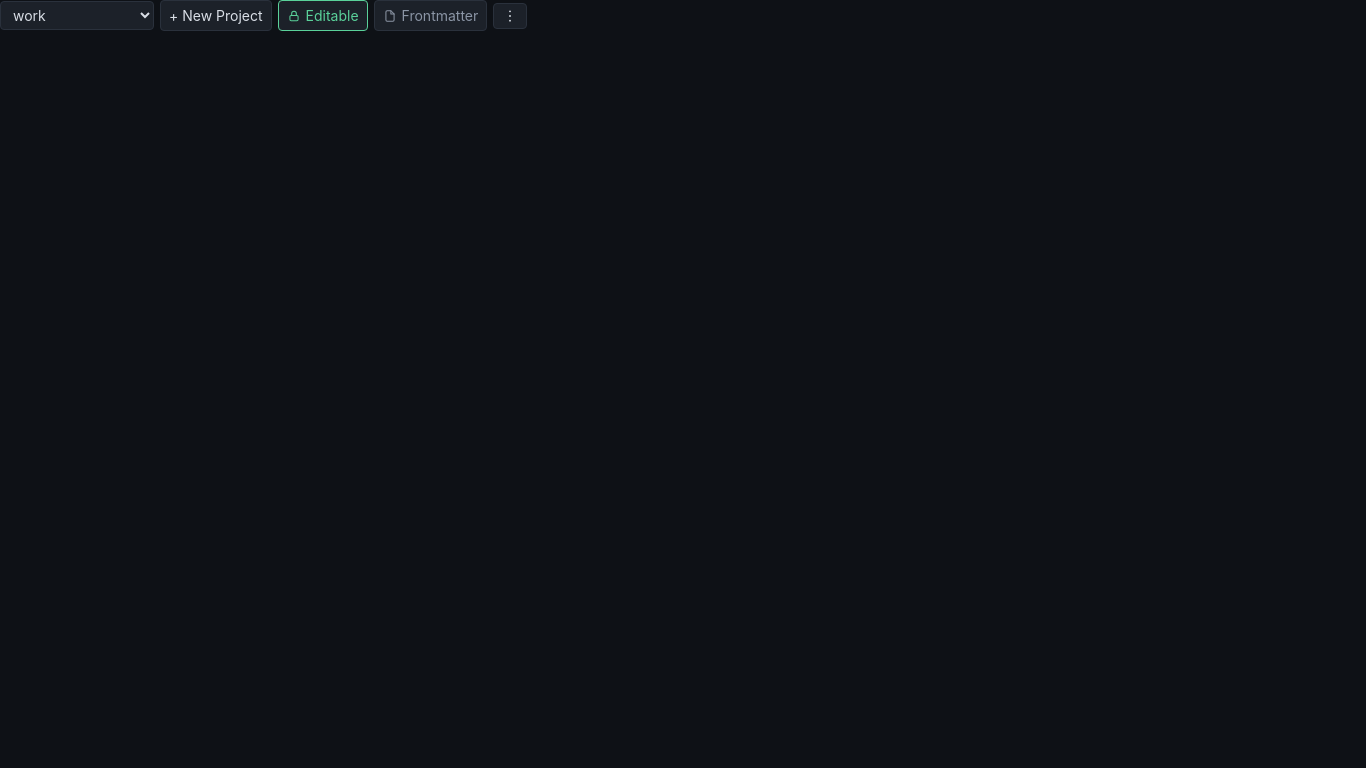
Test: ProjectSwitcher delete dialog › warns that everything in an ordinary project folder is removed
Click the button named "Project actions". click: (510, 16)
box: [493, 2, 527, 28]
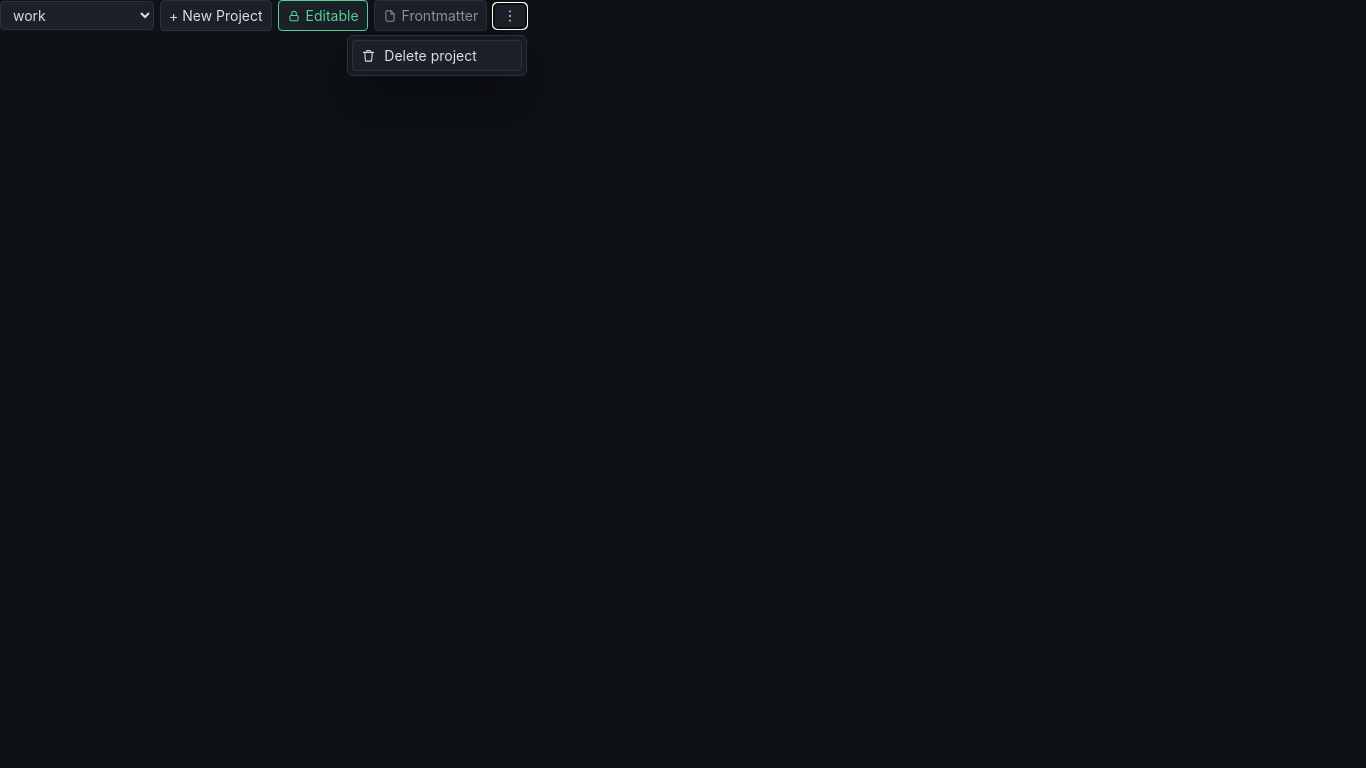
Click the menu item "Delete project". click: (437, 55)
box: [352, 40, 522, 70]
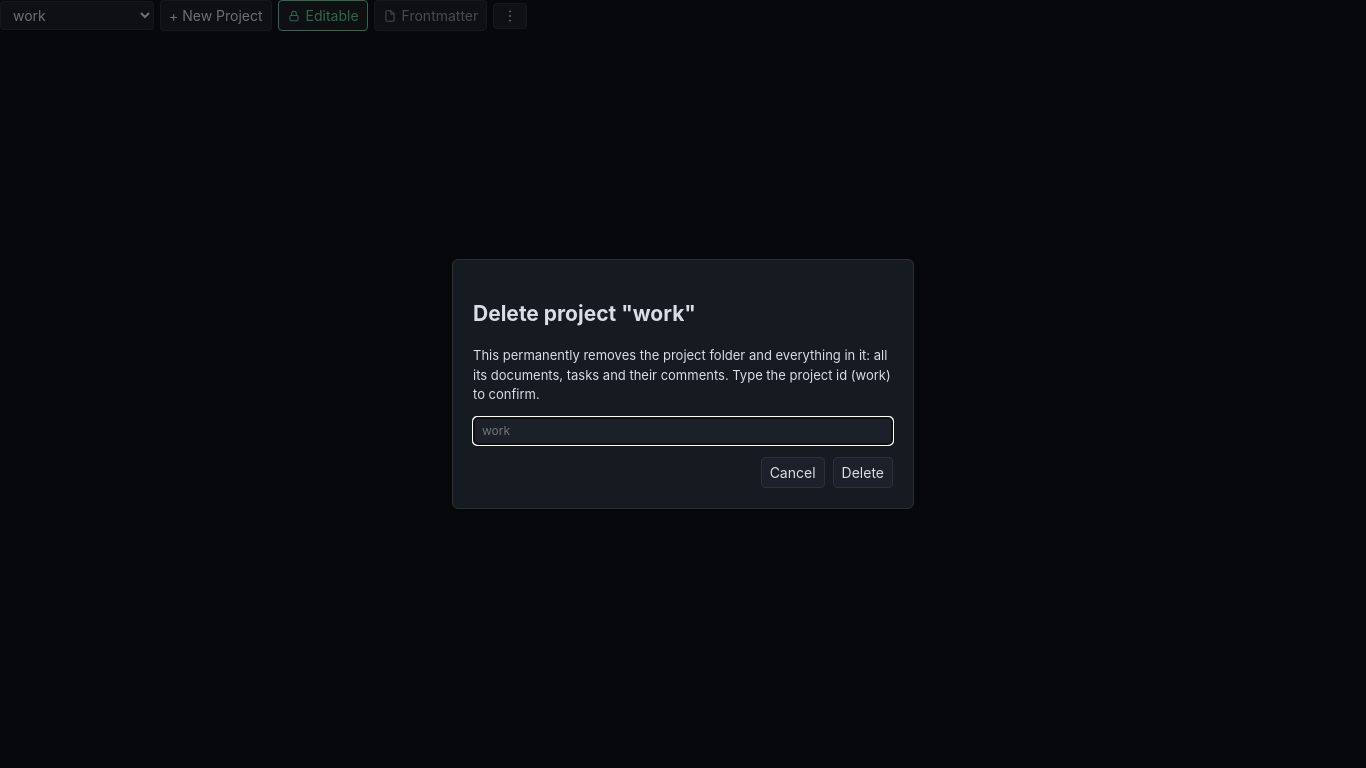
Now the dialog shows "permanently removes the project folder and everything in it", box [473, 347, 894, 402]
